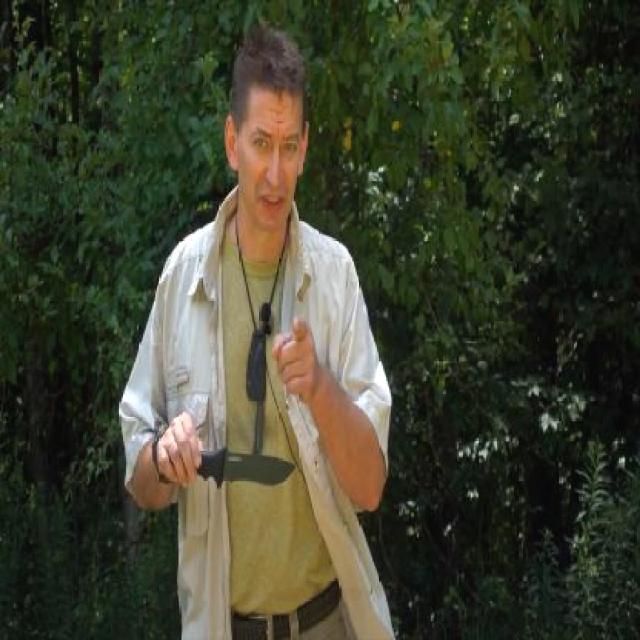knife: (172, 409, 300, 494)
